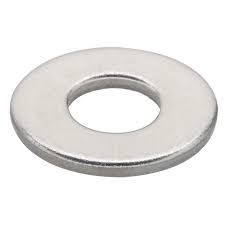No thread: (64, 70, 161, 136)
